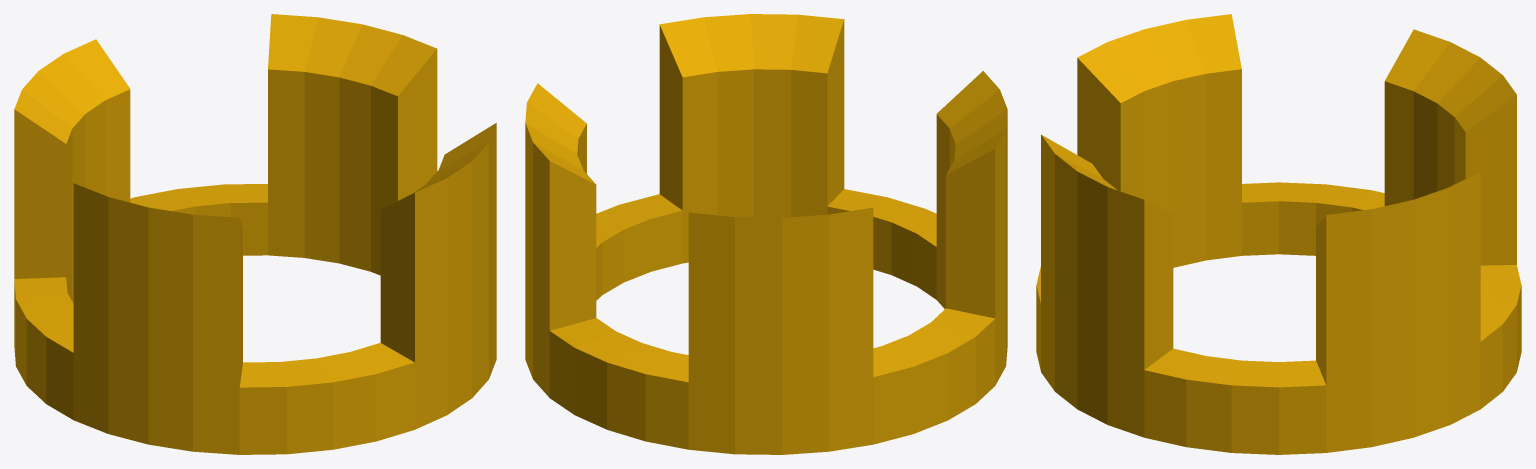
File: crown.fbx
3 renders of one model, left to right at view 1: azimuth 30°, elevation 25°; view 2: azimuth 150°, elevation 25°; view 3: azimuth 270°, elevation 25°, orthographic.
Parts seen in each view (by area): view 1: Cylinder; view 2: Cylinder; view 3: Cylinder.
Part boxes in pixels (x1,y1,x2,y2): Cylinder: (14, 14, 496, 454); Cylinder: (525, 14, 1007, 454); Cylinder: (1036, 14, 1521, 454).
Size of the model in its own units: 551 by 298 by 551.
